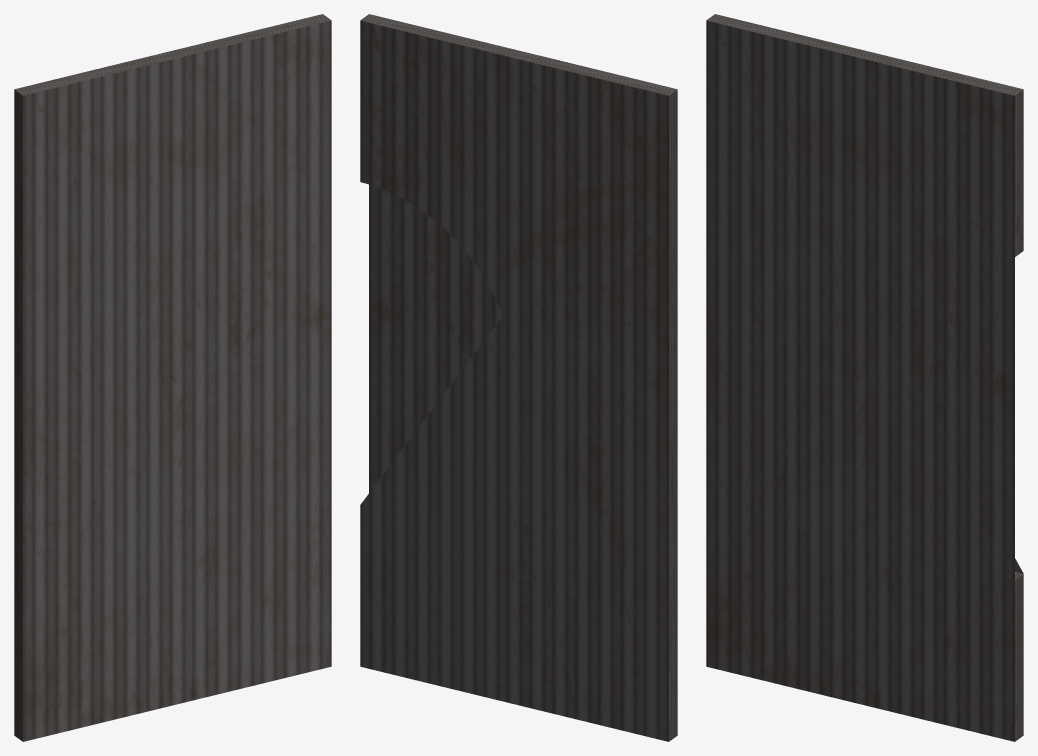
The model's file is gate-part1.fbx.
3 views of the same model, side by side, from view 1: azimuth 30°, elevation 25°; view 2: azimuth 150°, elevation 25°; view 3: azimuth 330°, elevation 25° (orthographic).
Visible parts, largest first — view 1: Wall; view 2: Wall; view 3: Wall.
Part boxes in pixels (x1,y1,x2,y2): Wall: (14, 14, 331, 741); Wall: (360, 14, 677, 741); Wall: (706, 14, 1023, 741).
Bounding box in the file's own units: 1 × 2 × 0.05.
